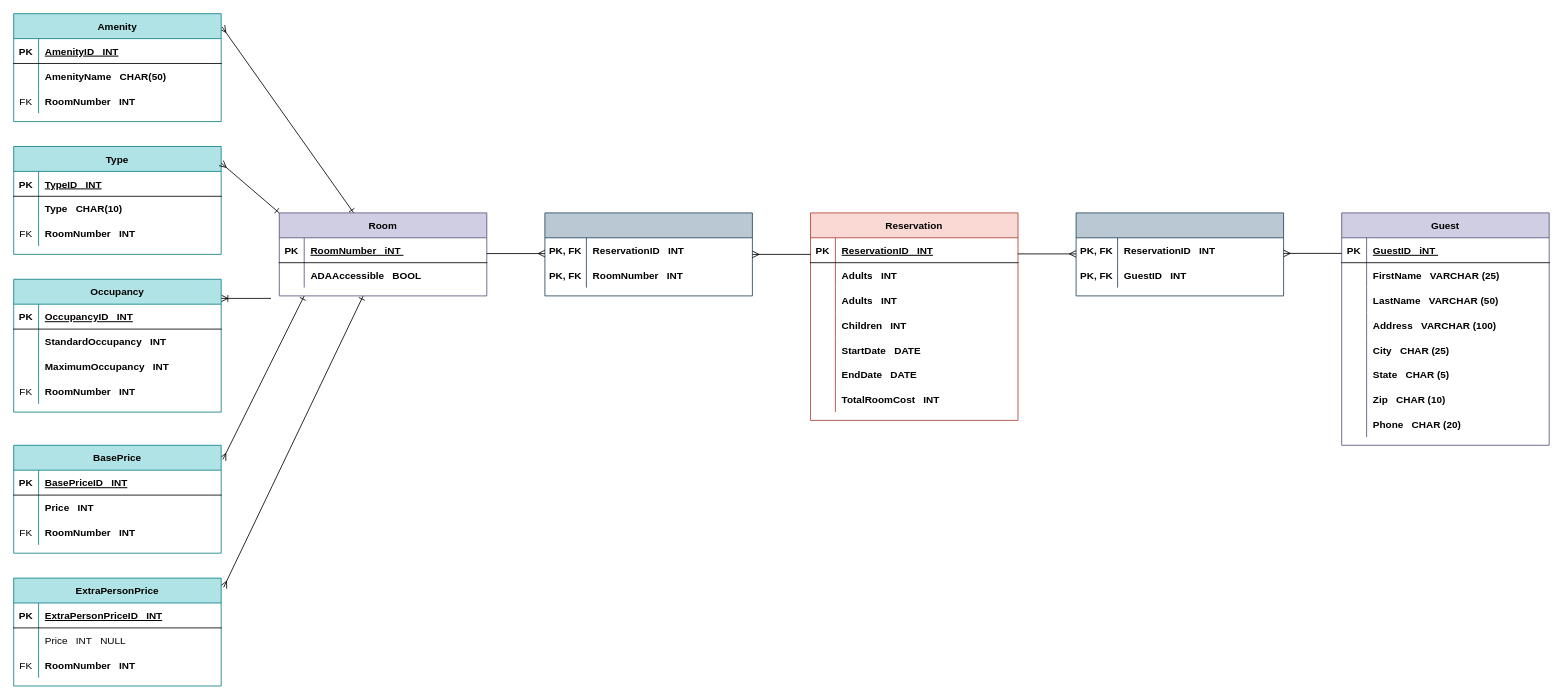
The diagram is 1563 pixels wide and 700 high, and some of its shapes have lost their labels. The shapes that lost their labels are listed below. From the top down, each one's box as (x1, y1, x2, y2) in pixels, then its label:
(544, 212, 752, 296): ReservationRoom
(1075, 212, 1284, 296): ReservationGuest
